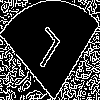L: (24, 25, 62, 79)
